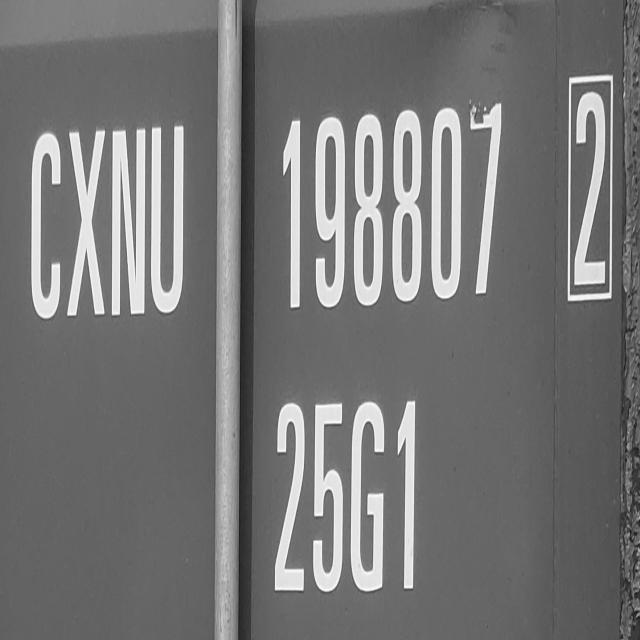dv: (550, 60, 617, 308)
owner: (21, 114, 194, 327)
serial: (264, 86, 510, 316)
size: (258, 395, 429, 602)
